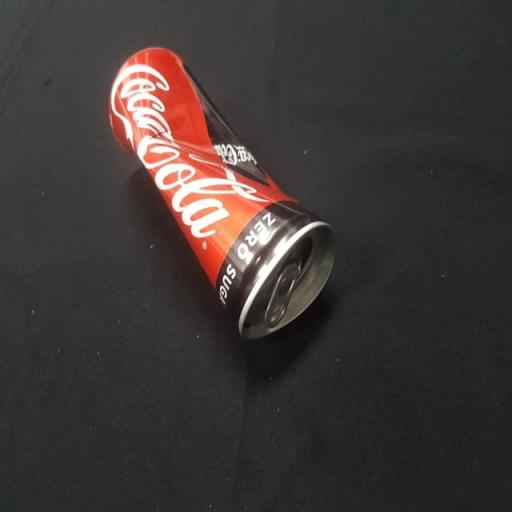metal: (97, 28, 345, 370)
